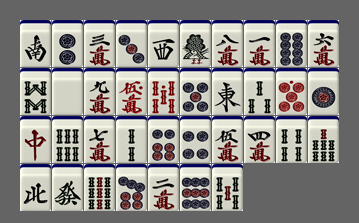0m: (116, 68, 147, 115)
0p: (276, 68, 307, 115)
0s: (148, 68, 179, 115)
1m: (244, 20, 275, 67)
1p: (308, 68, 339, 115)
1s: (180, 20, 211, 67)
1z: (212, 68, 243, 115)
2m: (148, 164, 179, 211)
2p: (52, 20, 83, 67)
2s: (116, 116, 147, 163)
2z: (20, 20, 51, 67)
3m: (84, 20, 115, 67)
3p: (116, 20, 147, 67)
3s: (244, 68, 275, 115)
3z: (148, 20, 179, 67)
4m: (244, 116, 275, 163)
4p: (180, 116, 211, 163)
4s: (276, 116, 307, 163)
4z: (20, 164, 51, 211)
5m: (212, 116, 243, 163)
5p: (180, 68, 211, 115)
5s: (212, 164, 243, 211)
5z: (52, 68, 83, 115)
6m: (308, 20, 339, 67)
6p: (148, 116, 179, 163)
6s: (52, 116, 83, 163)
6z: (52, 164, 83, 211)
7m: (84, 116, 115, 163)
7p: (116, 164, 147, 211)
7s: (308, 116, 339, 163)
7z: (20, 116, 51, 163)
8m: (212, 20, 243, 67)
8p: (276, 20, 307, 67)
8s: (20, 68, 51, 115)
9m: (84, 68, 115, 115)
9p: (180, 164, 211, 211)
9s: (84, 164, 115, 211)
